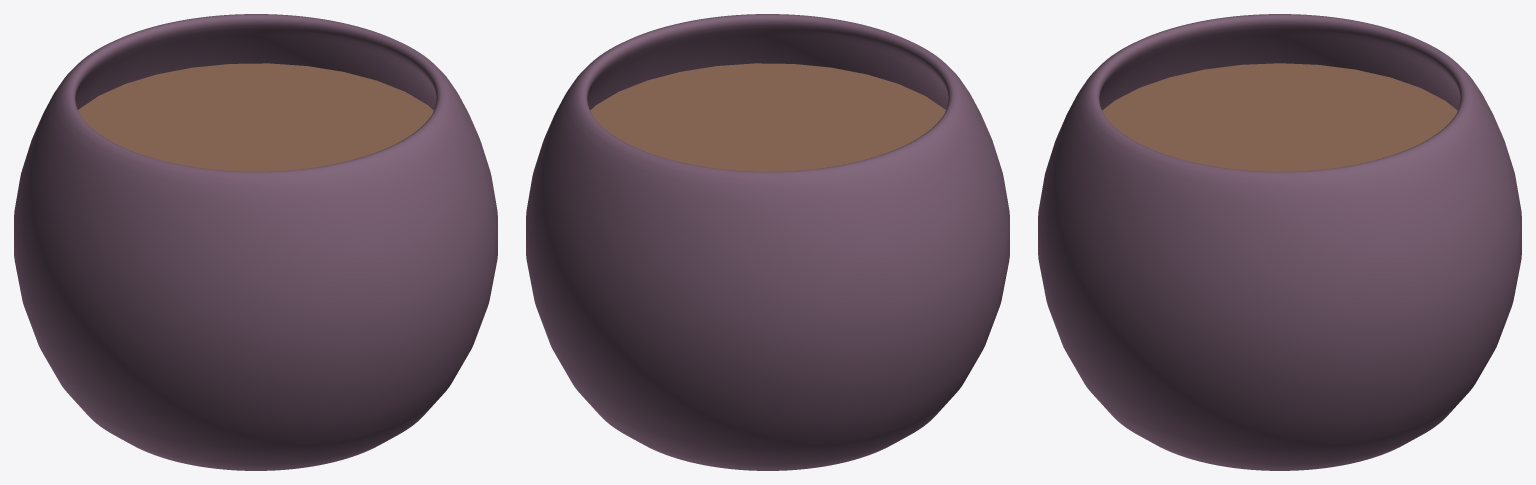
Rendered from round_purple.glb.
The picture shows the model from 3 angles, left to right: view 1: azimuth 30°, elevation 25°; view 2: azimuth 150°, elevation 25°; view 3: azimuth 270°, elevation 25°; orthographic projection.
Visible parts, largest first — view 1: Circle.004, Circle.005; view 2: Circle.004, Circle.005; view 3: Circle.004, Circle.005.
Boxes of the visible parts, left/top/right/bottom form: Circle.004: left=14, top=14, right=497, bottom=470; Circle.005: left=78, top=63, right=433, bottom=171; Circle.004: left=526, top=14, right=1009, bottom=470; Circle.005: left=590, top=63, right=945, bottom=171; Circle.004: left=1038, top=14, right=1521, bottom=470; Circle.005: left=1102, top=63, right=1457, bottom=171.
Size of the model in its own units: 13.78 by 10.23 by 13.78.
